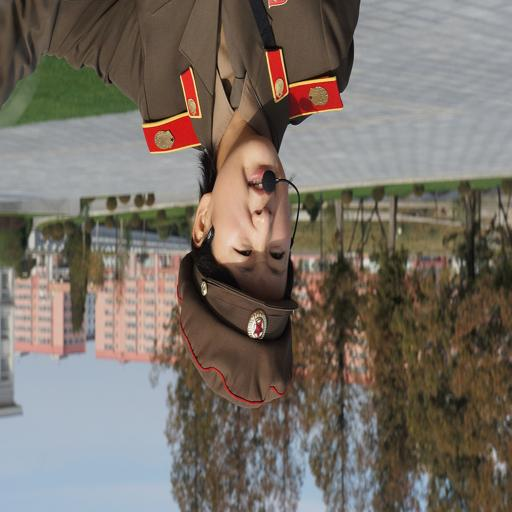north army: (6, 3, 362, 406)
